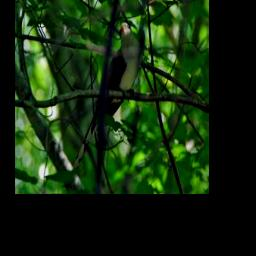Cuckoo: (68, 20, 143, 172)
